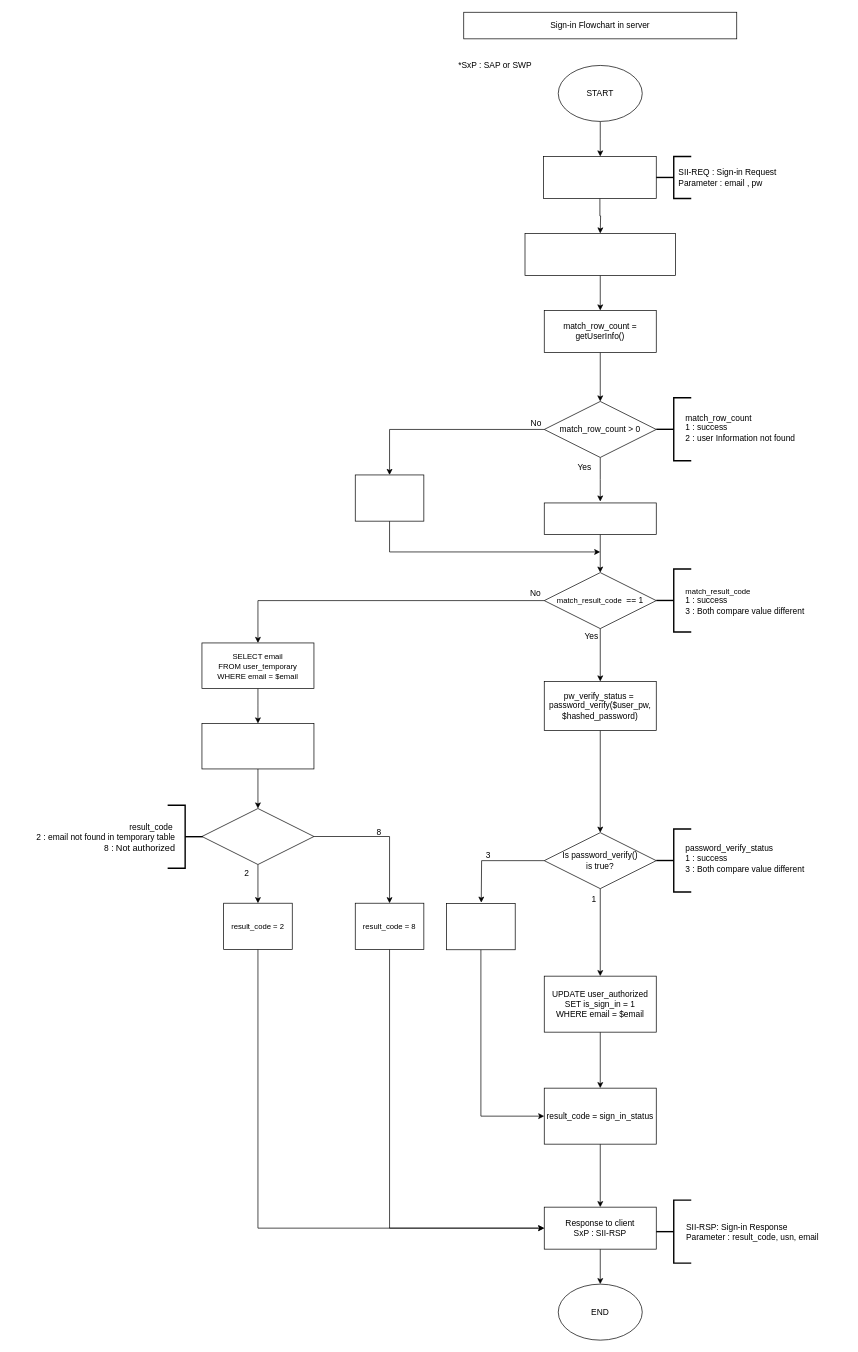
This 858x1352 diagram has some shape labels left out. Here are the shapes that lost their labels. From the top down, the centre of each, then its label:
At point 599,177: "Recieve request from Client SxP : SII-REQ".
At point 600,254: "SELETE usn, hashed_password FROM user_athorized WHERE email = $email".
At point 389,497: "match_result_code = 2".
At point 600,518: "match_result_code = 1".
At point 257,746: "result_code = get_user_temp_data()".
At point 257,836: "result_code ?".
At point 480,926: "result_code = 3".
